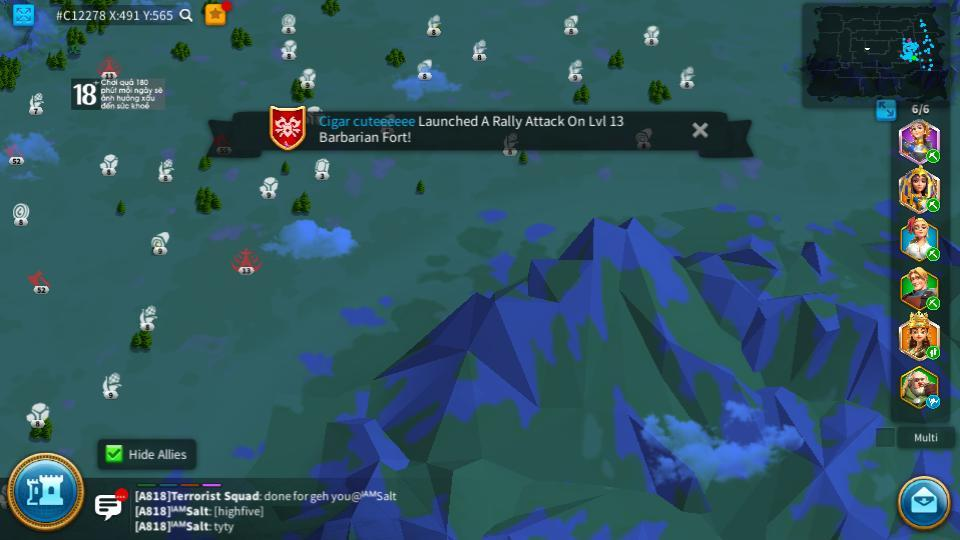gem-z-out: (415, 58, 435, 79), (313, 158, 331, 178), (279, 13, 296, 33)
march_idle: (925, 396, 942, 408)
march_marching: (925, 197, 941, 212), (926, 345, 941, 359), (925, 150, 942, 162), (925, 248, 942, 260), (925, 297, 942, 308)
